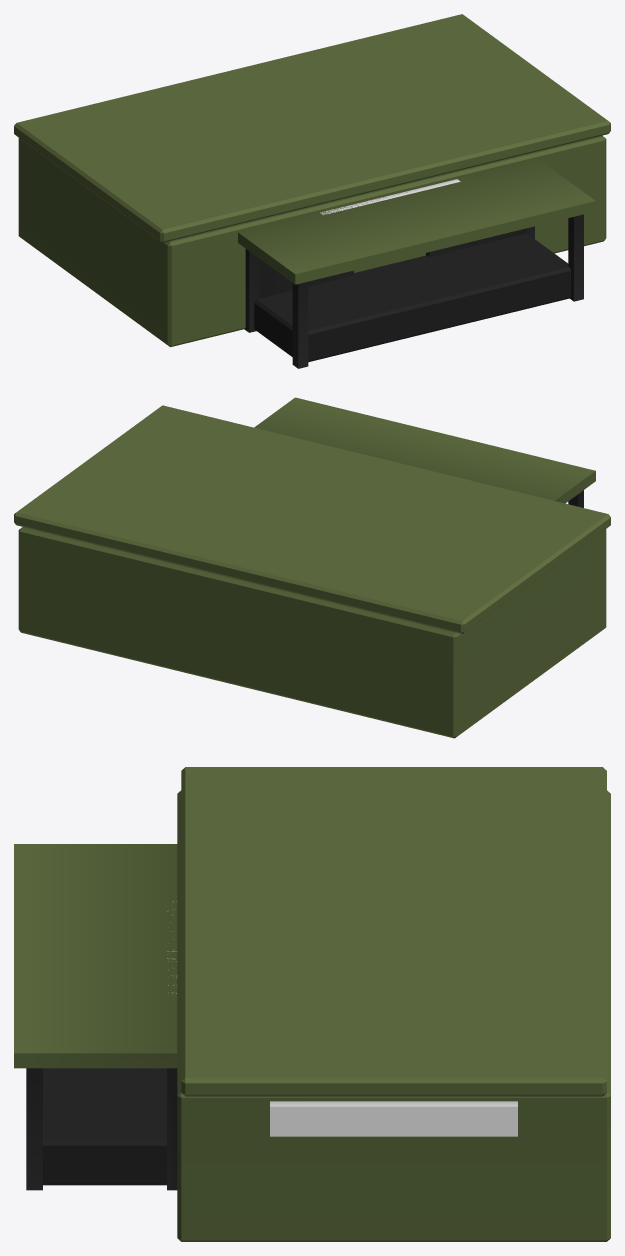
The model's file is ua-supply-center.glb.
3 views of the same model, one above another, from view 1: azimuth 30°, elevation 25°; view 2: azimuth 150°, elevation 25°; view 3: azimuth 270°, elevation 25° (orthographic). The views are drawn at different scales.
Parts seen in each view (by area): view 1: ua-supply-center; view 2: ua-supply-center; view 3: ua-supply-center.
Part boxes in pixels (left/top/right/bottom): ua-supply-center: left=14, top=14, right=610, bottom=368; ua-supply-center: left=14, top=397, right=610, bottom=738; ua-supply-center: left=14, top=767, right=610, bottom=1241.
Size of the model in its own units: 3.61 by 0.9 by 2.89.
